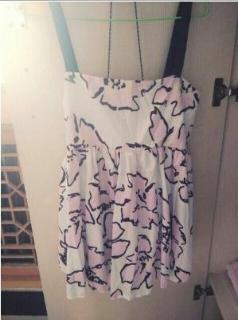sling: (49, 1, 201, 301)
